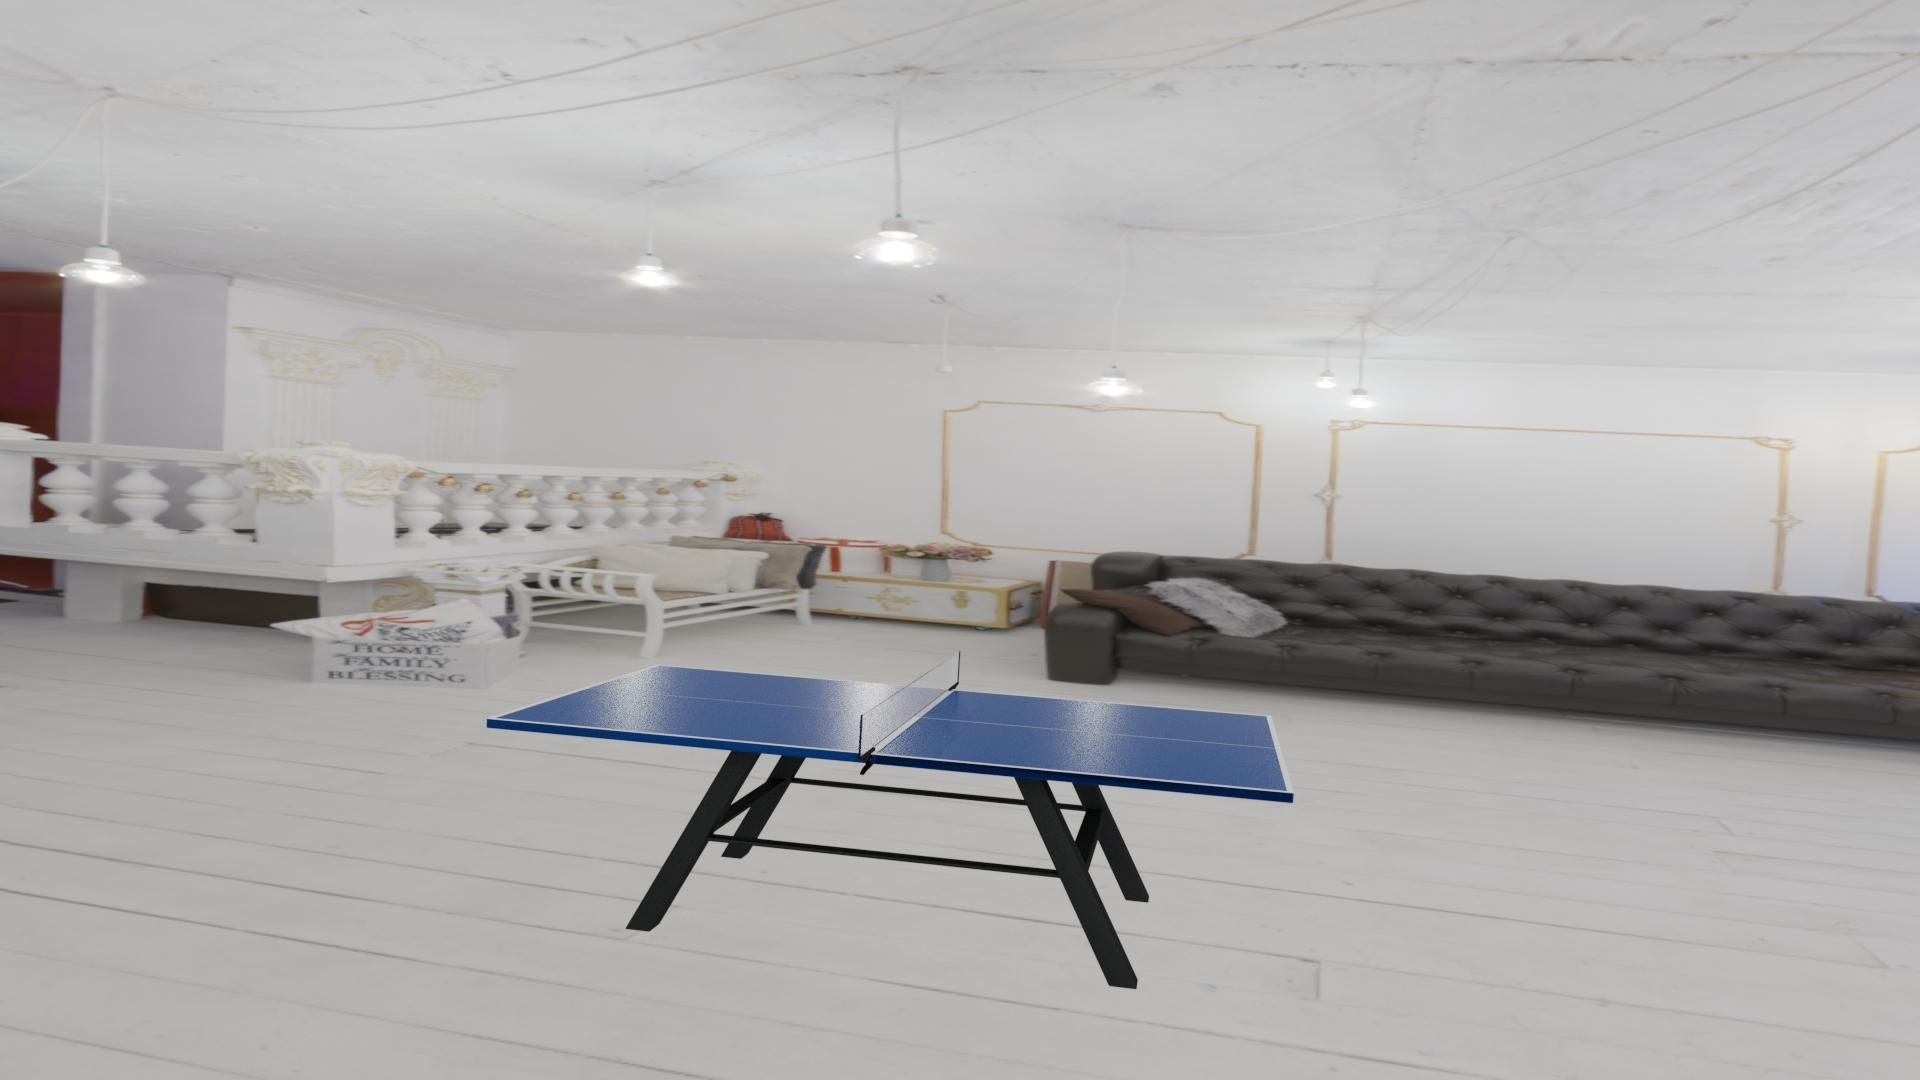table: (495, 666, 1287, 791)
